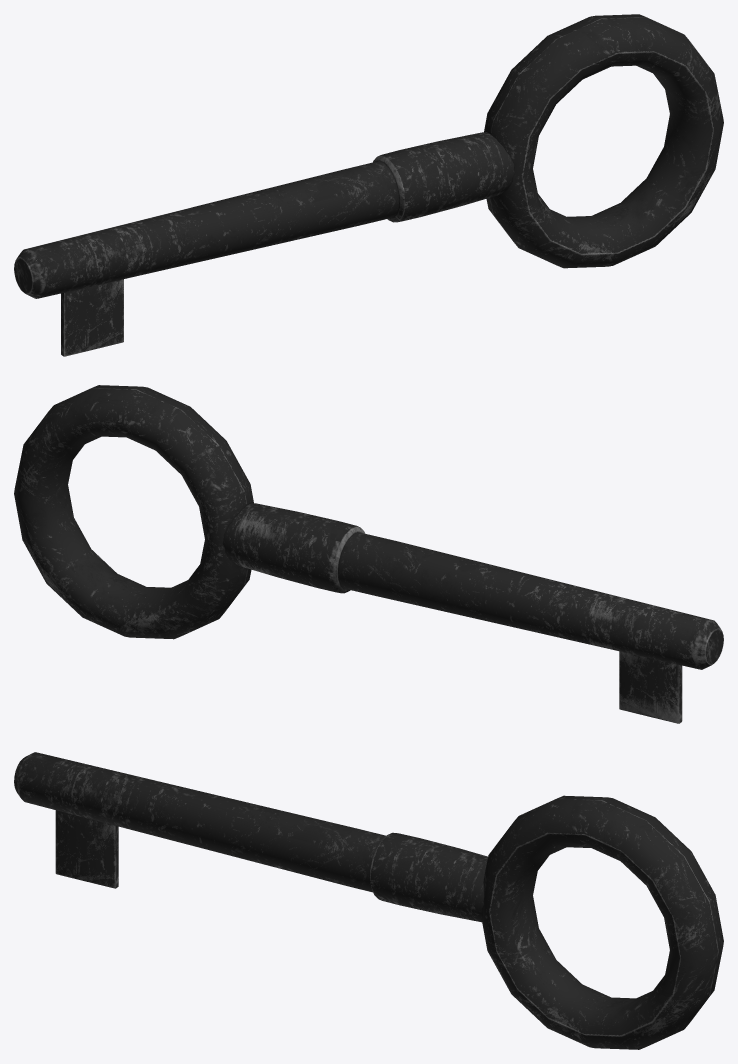
The model's file is Old Key.fbx.
3 views of the same model, one above another, from view 1: azimuth 30°, elevation 25°; view 2: azimuth 150°, elevation 25°; view 3: azimuth 330°, elevation 25° (orthographic).
Visible parts, largest first — view 1: Old Key; view 2: Old Key; view 3: Old Key.
Boxes of the visible parts, x1,y1,x2,y2 form: Old Key: (14,14,723,356); Old Key: (14,385,723,723); Old Key: (14,752,723,1049).
Size of the model in its own units: 374 by 126 by 33.
1 material, 1 textured.
